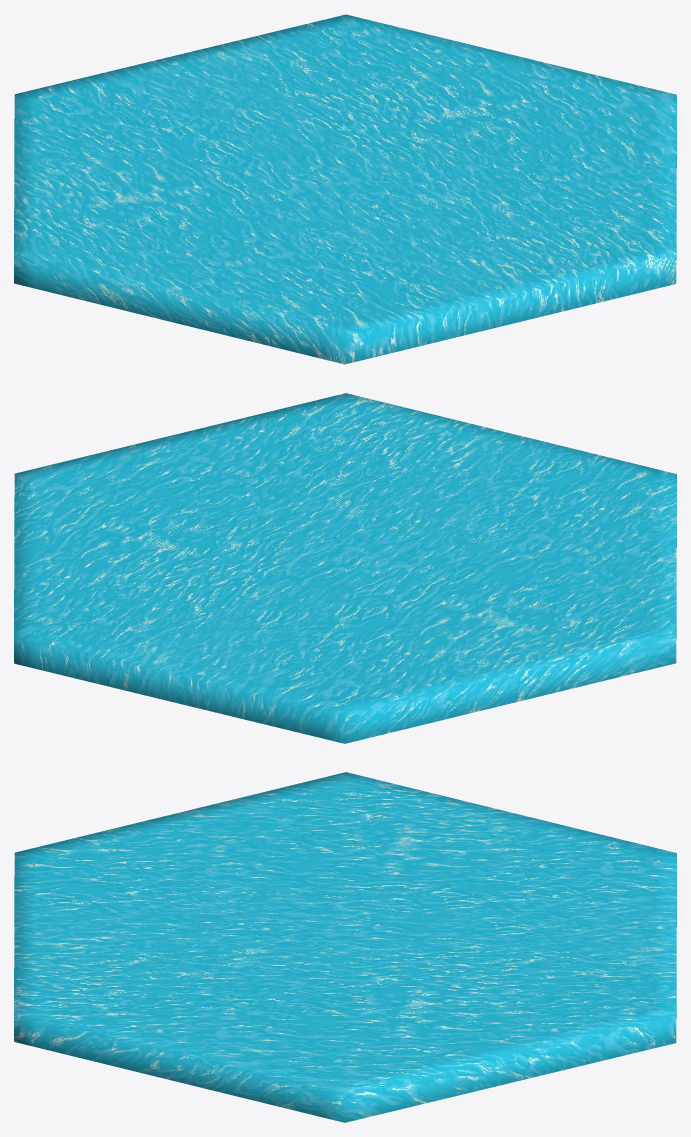
File: bluehex.fbx
The picture shows the model from 3 angles, top to bottom: view 1: azimuth 30°, elevation 25°; view 2: azimuth 150°, elevation 25°; view 3: azimuth 270°, elevation 25°; orthographic projection.
Visible parts, largest first — view 1: Hexa; view 2: Hexa; view 3: Hexa.
Part boxes in pixels (left/top/right/bottom): Hexa: left=14, top=14, right=676, bottom=364; Hexa: left=14, top=393, right=676, bottom=743; Hexa: left=14, top=772, right=676, bottom=1122.
Bounding box in the file's own units: 24.41 × 0.9964 × 21.15.
1 material, 1 textured.
